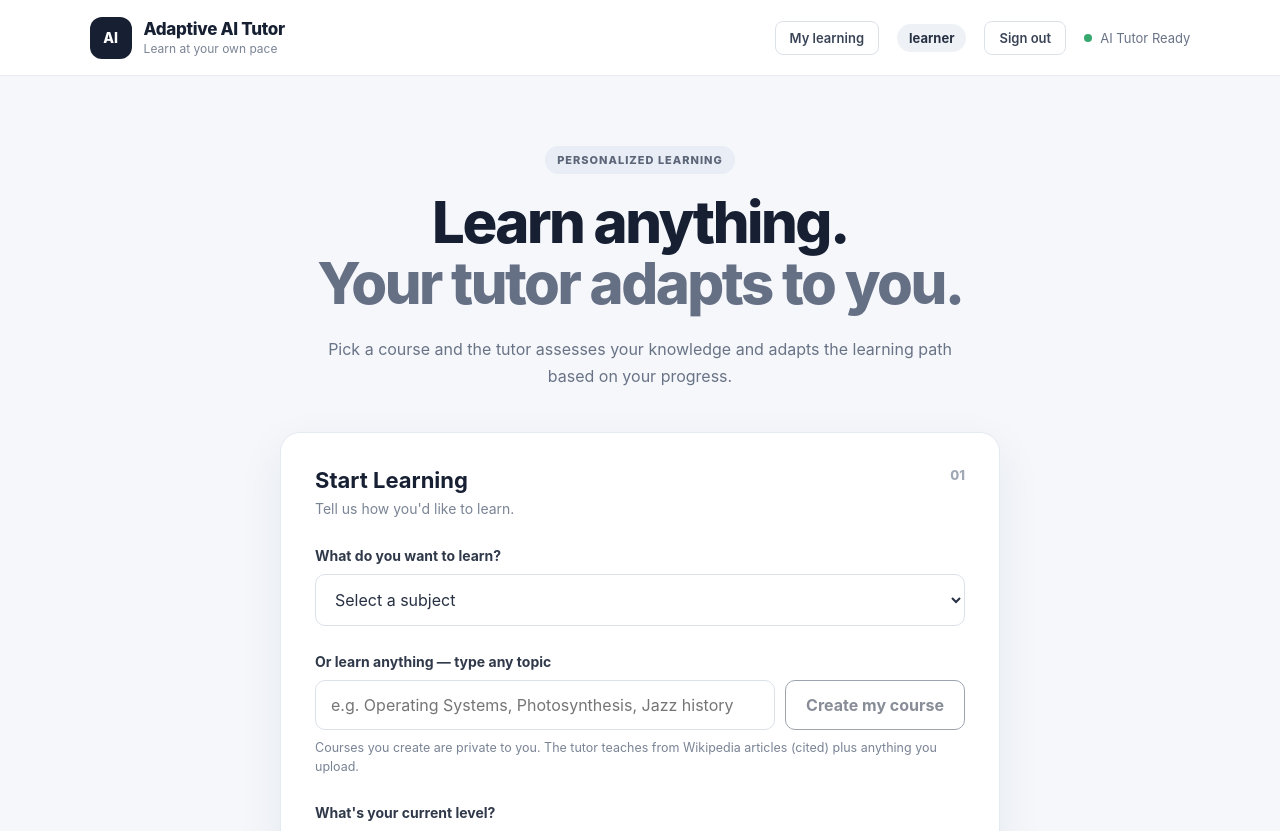
Test: App › shows the end-of-path screen when the planner is complete
The width and height of the screenshot is (1280, 831).
Select "Computer Networks" in the dropdown labelled "What do you want to learn?" at coordinates (640, 600), box [315, 574, 965, 626]
(page scrolled)
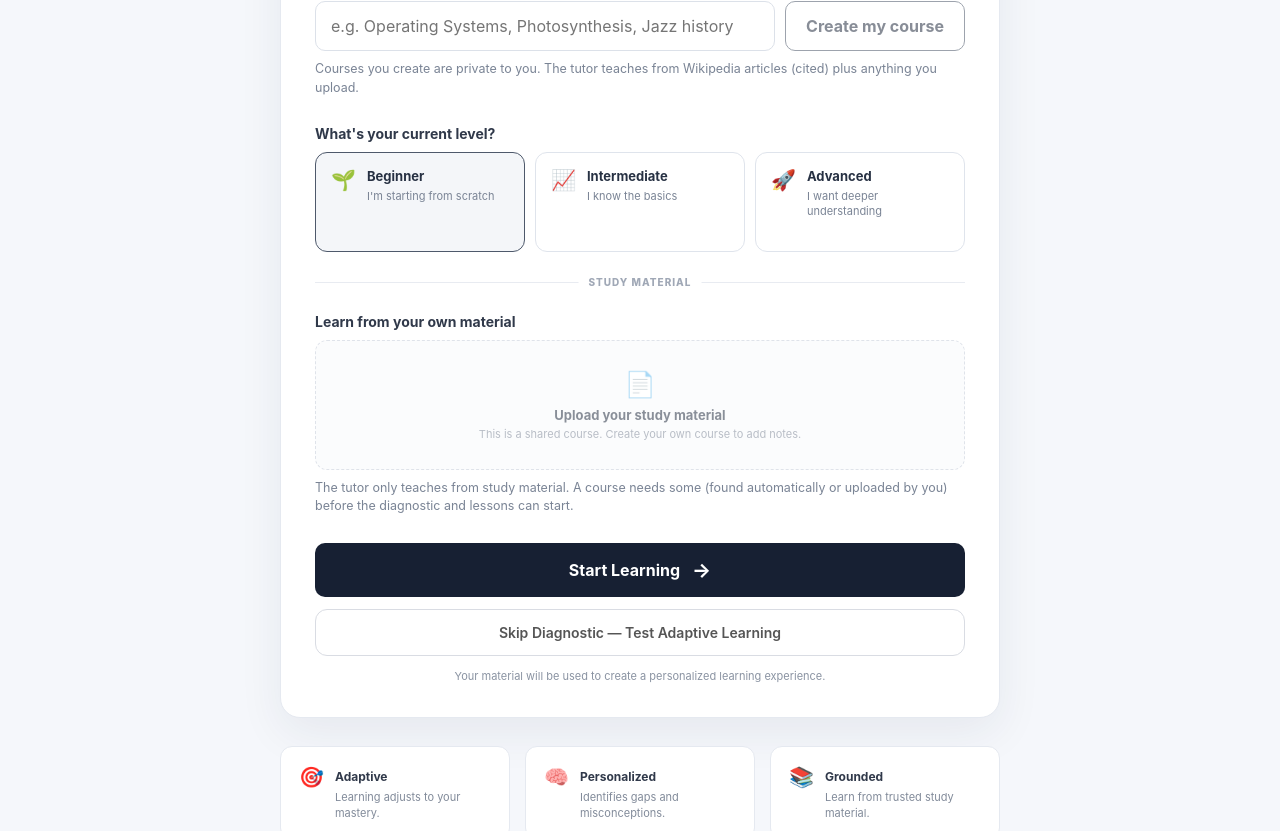
Click the button "Skip Diagnostic — Test Adaptive Learning".
click(640, 633)  # box [315, 609, 965, 656]
(page scrolled)
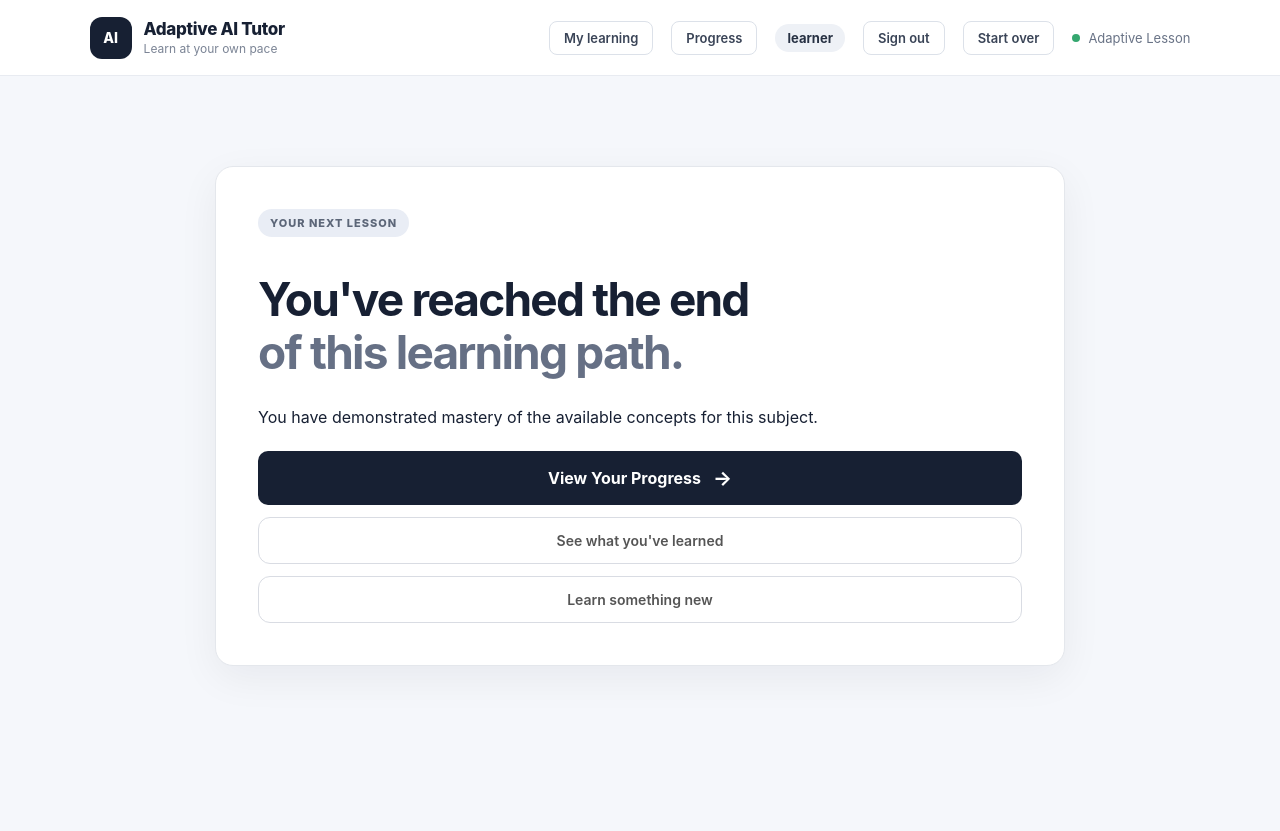
expect the text "of this learning path." is shown: met, box [258, 324, 683, 380]
